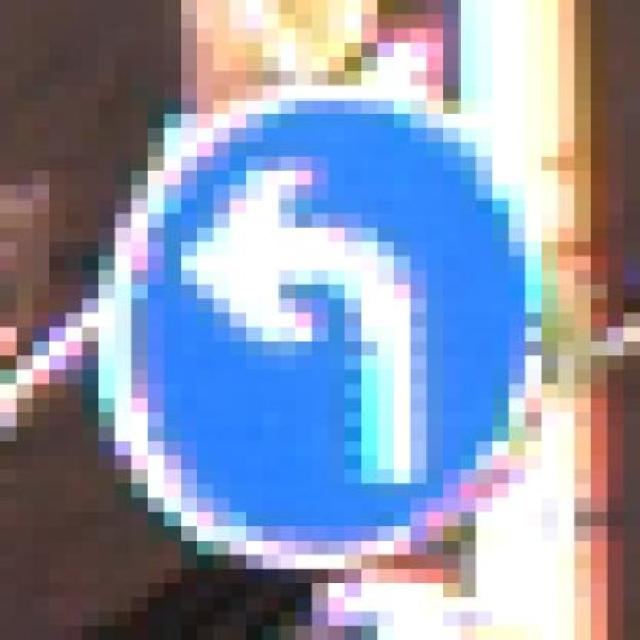Turn left ahead: (98, 71, 574, 597)
